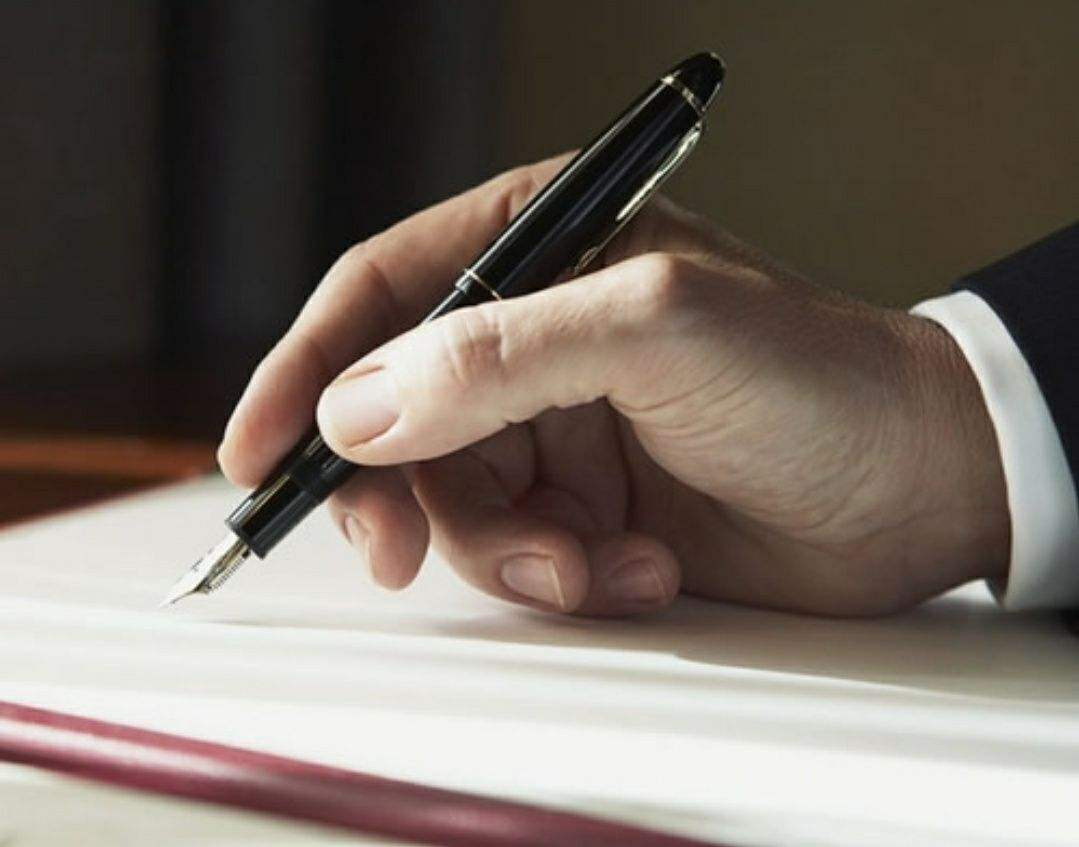no-phone: (147, 98, 930, 631)
